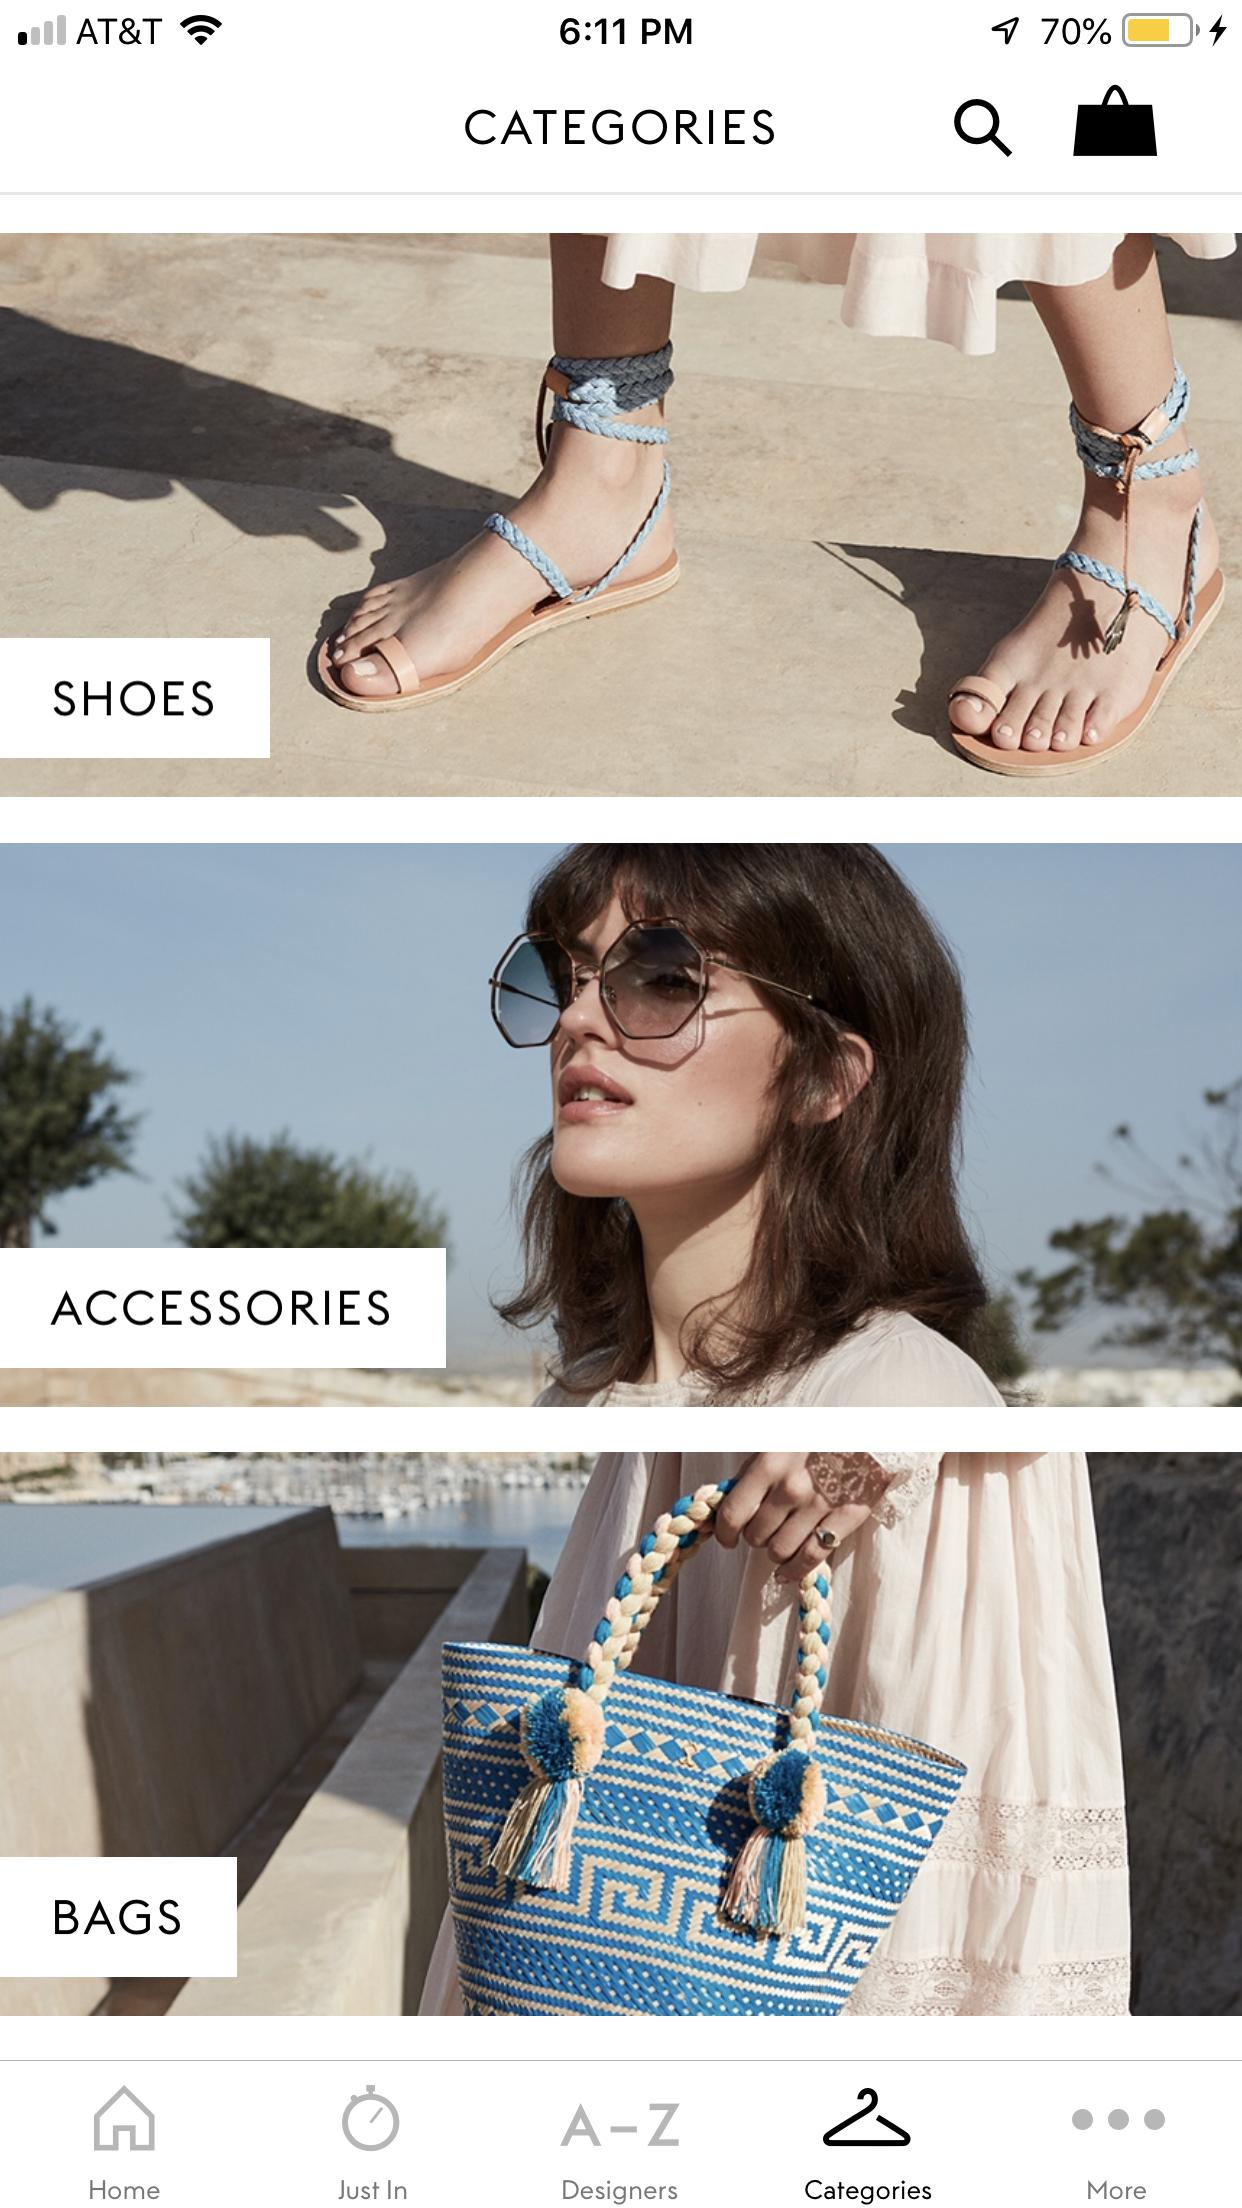Icon: (1072, 83, 1159, 158), (560, 2102, 681, 2147), (823, 2087, 911, 2147), (94, 2084, 158, 2152), (343, 2085, 400, 2152), (952, 99, 1015, 158), (1071, 2106, 1166, 2131)
Image: (2, 234, 1242, 798), (2, 843, 1242, 1407), (2, 1451, 1242, 2015)
Text: (52, 1287, 391, 1327), (466, 109, 775, 146), (55, 679, 215, 717), (55, 1899, 182, 1937), (805, 2178, 933, 2206), (563, 2179, 678, 2205), (89, 2179, 162, 2200), (338, 2179, 408, 2200), (1087, 2179, 1146, 2200)
UpperTaskBar: (2, 2, 1242, 52)
